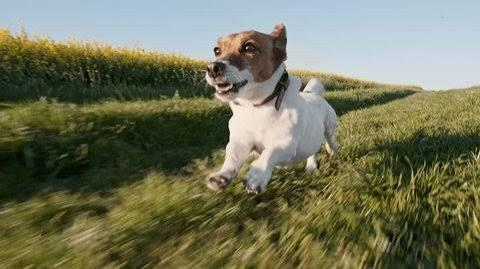adult_dog: (204, 20, 340, 196)
